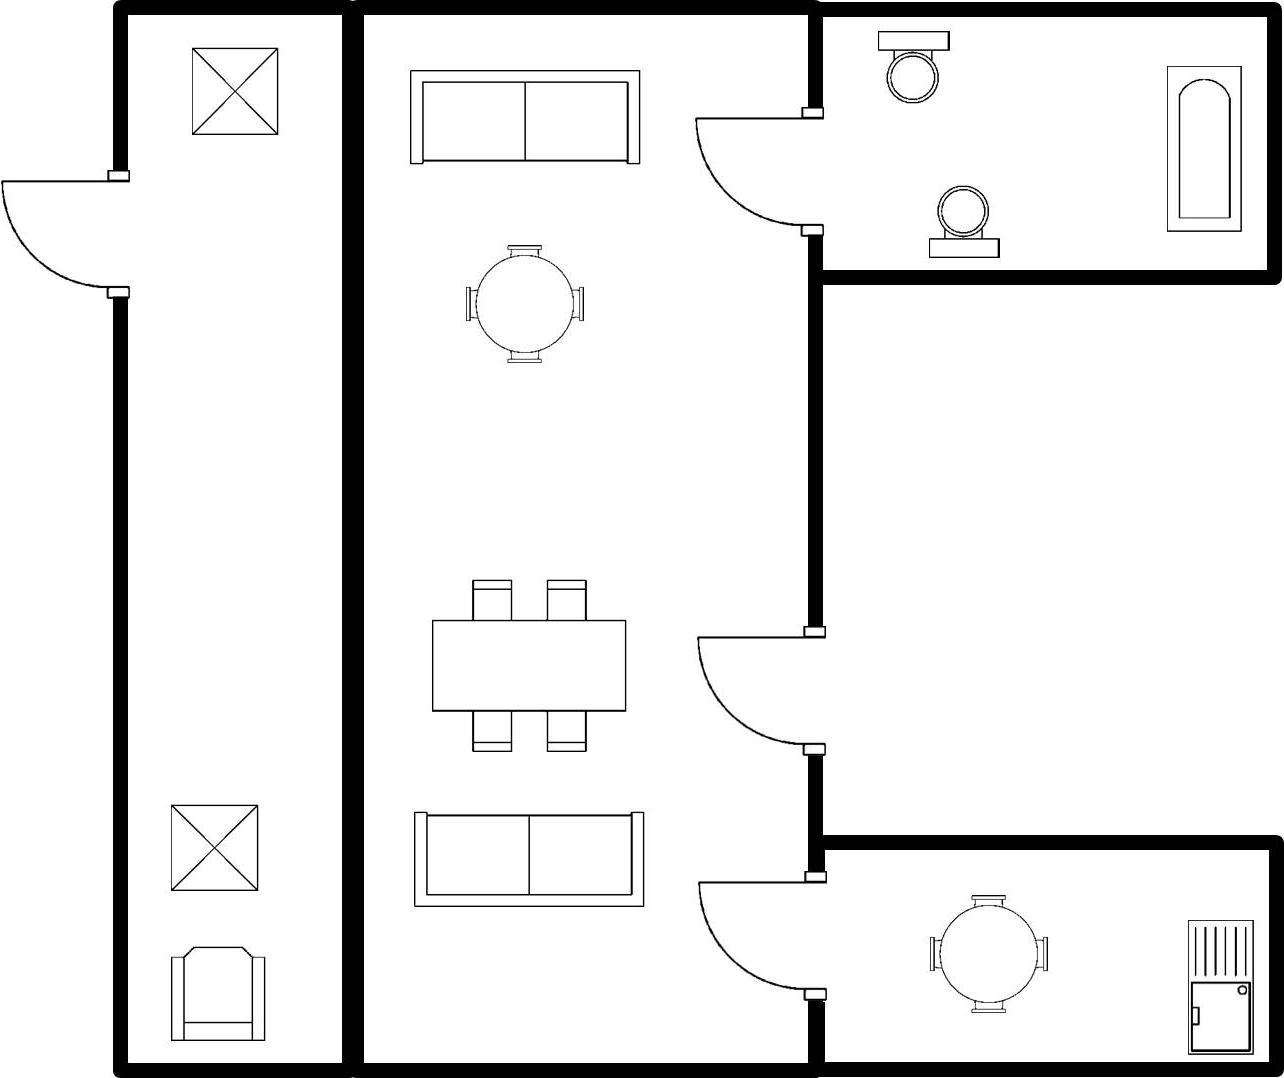dining_table: (426, 573, 635, 756)
round_table: (458, 235, 598, 371), (922, 885, 1055, 1021)
sink: (1184, 912, 1262, 1061)
sofa: (403, 60, 648, 172), (405, 805, 654, 913)
toilet: (919, 178, 1009, 265), (867, 21, 956, 108)
tub: (1159, 59, 1251, 238)
